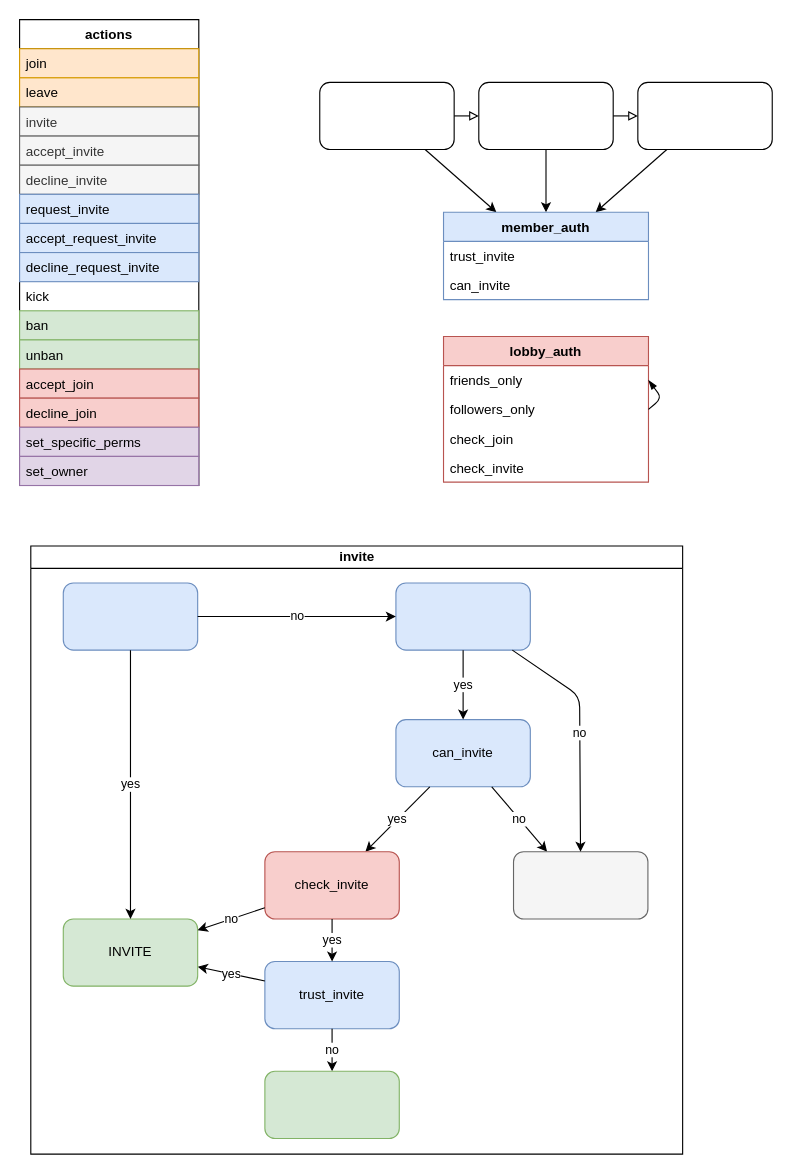
Image size: 792x1174. Some labels were removed from this diagram. Each missing label, with the centre of its shape:
!is_owner: point (130, 616)
<<follower>>: point (545, 115)
<<friend>>: point (704, 115)
<<guest>>: point (386, 115)
ABORT: point (580, 885)
is_member: point (462, 616)
REQUEST INVITE: point (331, 1104)
